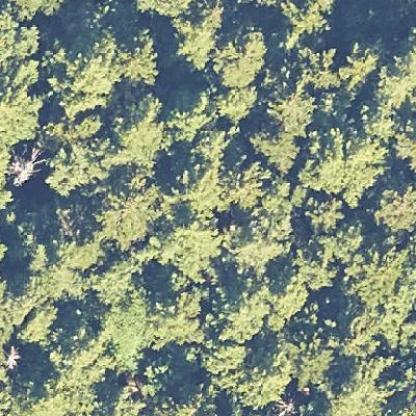tree-top: (338, 243, 415, 329), (209, 274, 279, 348), (51, 34, 120, 107), (90, 183, 165, 250), (108, 90, 170, 166), (145, 279, 210, 349), (206, 22, 270, 91), (49, 321, 111, 387), (164, 213, 226, 278), (44, 140, 105, 197), (116, 28, 168, 86), (248, 120, 302, 172), (368, 176, 415, 235)
